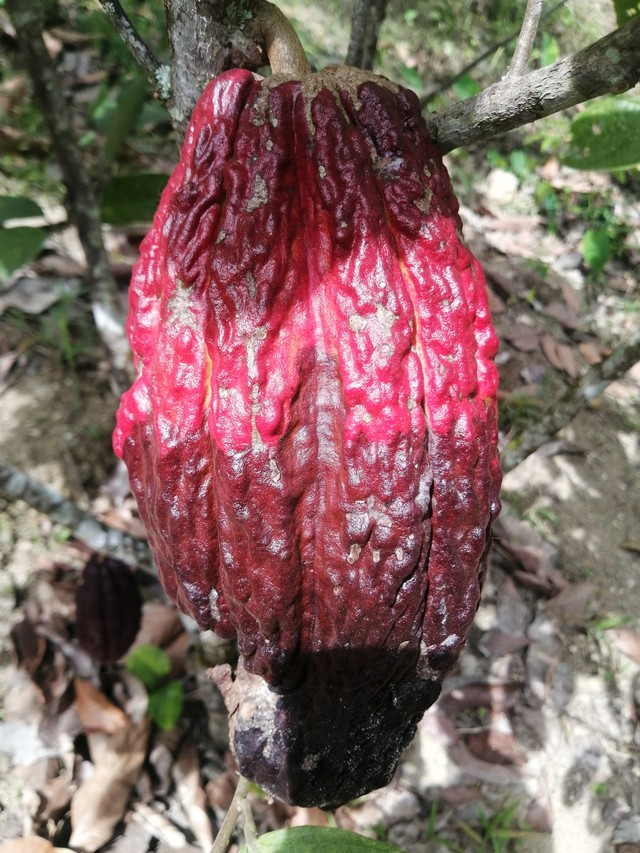moniliophthora roreri: (92, 45, 516, 817)
